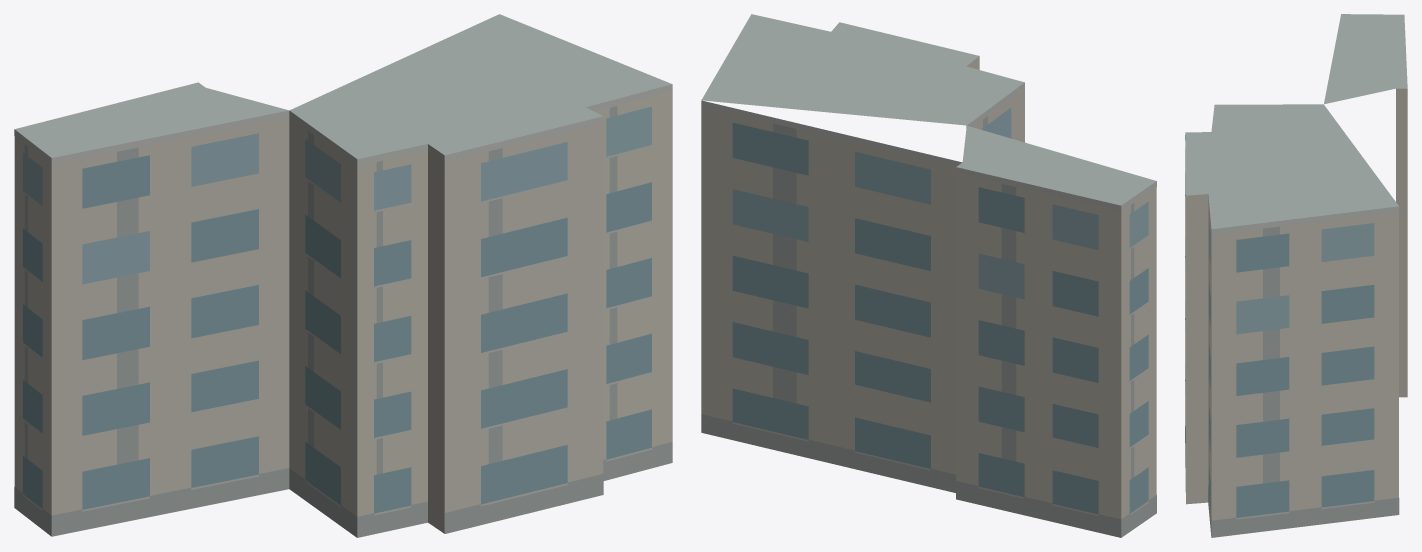
Rendered from survey-upis-33010840.glb.
The picture shows the model from 3 angles, left to right: view 1: azimuth 30°, elevation 25°; view 2: azimuth 150°, elevation 25°; view 3: azimuth 270°, elevation 25°; orthographic projection. The views are drawn at different scales.
Visible parts, largest first — view 1: survey-upis-33010840.tmp; view 2: survey-upis-33010840.tmp; view 3: survey-upis-33010840.tmp.
Part boxes in pixels (<box>): survey-upis-33010840.tmp: <box>14,14,672,537</box>; survey-upis-33010840.tmp: <box>701,14,1156,537</box>; survey-upis-33010840.tmp: <box>1185,14,1407,537</box>.
Size of the model in its own units: 20.06 by 13.4 by 8.77.
